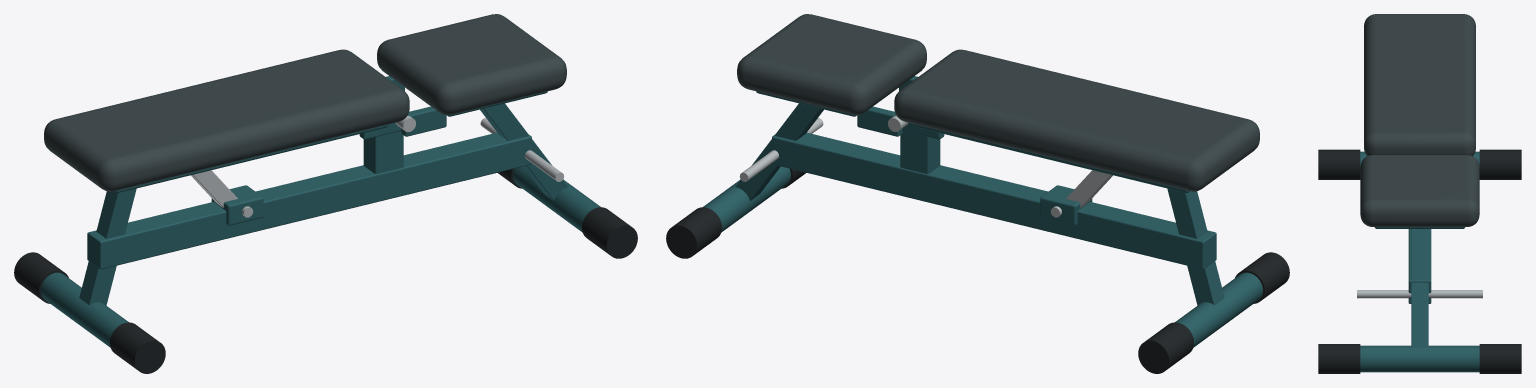
3 renders of one model, left to right at view 1: azimuth 30°, elevation 25°; view 2: azimuth 150°, elevation 25°; view 3: azimuth 270°, elevation 25°, orthographic. The views are drawn at different scales.
Parts seen in each view (by area): view 1: Long rounded back upholstery, Longitudinal lower box frame, Separate rounded seat upholstery, rear transverse metal foot, Rear sloping square support, front rubber end cap -1, rear rubber end cap -1, front transverse metal foot, Front sloping square support, Central hinge frame support, rear rubber end cap 1, Rear prop lower pivot housing (+4 smaller); view 2: Long rounded back upholstery, Longitudinal lower box frame, Separate rounded seat upholstery, rear transverse metal foot, Rear sloping square support, front rubber end cap 1, rear rubber end cap 1, front transverse metal foot, Front sloping square support, Central hinge frame support, rear rubber end cap -1, Rear prop lower pivot housing (+4 smaller); view 3: Long rounded back upholstery, Separate rounded seat upholstery, front transverse metal foot, Front sloping square support, rear rubber end cap -1, rear rubber end cap 1, front rubber end cap -1, front rubber end cap 1, Front support transverse pin, Longitudinal lower box frame, Seat pad underside support plate.
Part boxes in pixels (x1,y1,x2,y2): Long rounded back upholstery: [44, 49, 409, 191]; Longitudinal lower box frame: [87, 132, 531, 269]; Separate rounded seat upholstery: [377, 14, 566, 115]; rear transverse metal foot: [41, 272, 128, 347]; Rear sloping square support: [79, 188, 136, 305]; front rubber end cap -1: [582, 207, 637, 258]; rear rubber end cap -1: [110, 322, 165, 373]; front transverse metal foot: [513, 166, 600, 232]; Front sloping square support: [480, 103, 568, 200]; Central hinge frame support: [363, 131, 403, 173]; rear rubber end cap 1: [14, 252, 68, 303]; Rear prop lower pivot housing: [211, 185, 263, 225]; Long rounded back upholstery: [894, 49, 1259, 191]; Longitudinal lower box frame: [772, 132, 1216, 269]; Separate rounded seat upholstery: [737, 14, 926, 115]; rear transverse metal foot: [1175, 272, 1262, 347]; Rear sloping square support: [1167, 188, 1224, 305]; front rubber end cap 1: [666, 207, 721, 258]; rear rubber end cap 1: [1138, 322, 1193, 373]; front transverse metal foot: [703, 166, 790, 232]; Front sloping square support: [735, 103, 823, 200]; Central hinge frame support: [900, 131, 940, 174]; rear rubber end cap -1: [1235, 252, 1289, 303]; Rear prop lower pivot housing: [1040, 185, 1092, 225]; Long rounded back upholstery: [1364, 14, 1475, 156]; Separate rounded seat upholstery: [1360, 155, 1479, 226]; front transverse metal foot: [1360, 345, 1479, 372]; Front sloping square support: [1411, 229, 1428, 347]; rear rubber end cap -1: [1318, 149, 1360, 179]; rear rubber end cap 1: [1479, 149, 1521, 179]; front rubber end cap -1: [1318, 344, 1360, 373]; front rubber end cap 1: [1479, 344, 1521, 373]; Front support transverse pin: [1357, 290, 1482, 298]; Longitudinal lower box frame: [1408, 229, 1431, 303]; Seat pad underside support plate: [1374, 227, 1465, 228].
Size of the model in its own units: 140 by 50.75 by 58.
